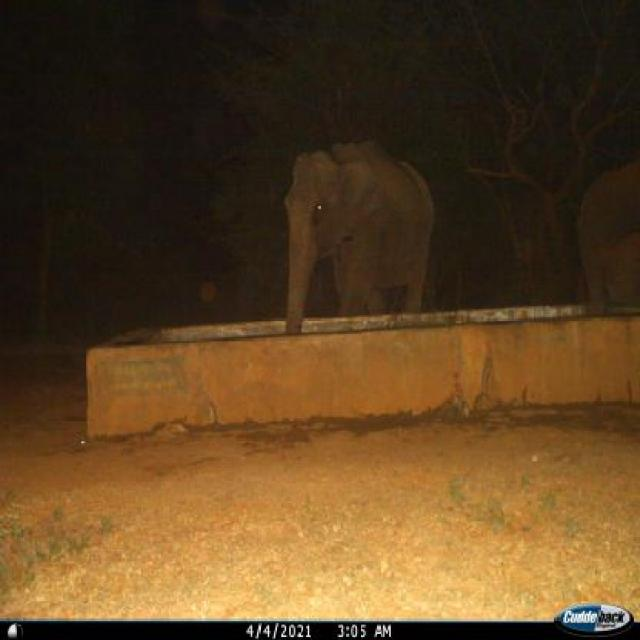Elephant: (278, 141, 438, 333)
